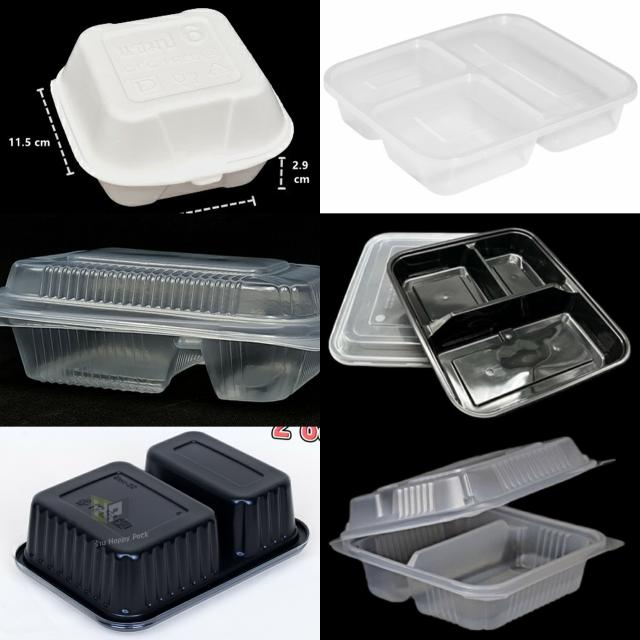Single-Use-Plastic: (15, 431, 309, 629), (330, 438, 623, 630), (325, 15, 637, 194), (0, 249, 319, 402), (51, 9, 294, 206), (388, 229, 629, 418), (329, 230, 470, 368)
